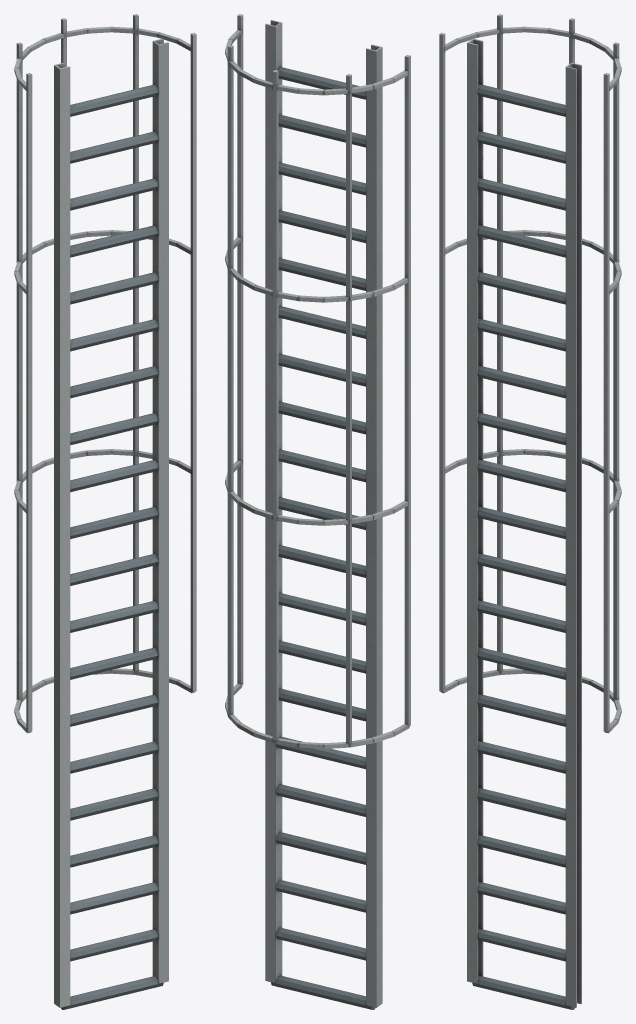
The model's file is caged_ladder.glb.
3 views of the same model, side by side, from view 1: azimuth 30°, elevation 25°; view 2: azimuth 150°, elevation 25°; view 3: azimuth 330°, elevation 25° (orthographic).
Parts seen in each view (by area): view 1: body; view 2: body; view 3: body.
Part boxes in pixels (x1,y1,x2,y2): body: (14, 14, 196, 1009); body: (225, 14, 410, 1009); body: (439, 14, 621, 1009).
Size of the model in its own units: 1.13 by 6.04 by 0.5975.
Materials: 1 (1 with a texture image).
